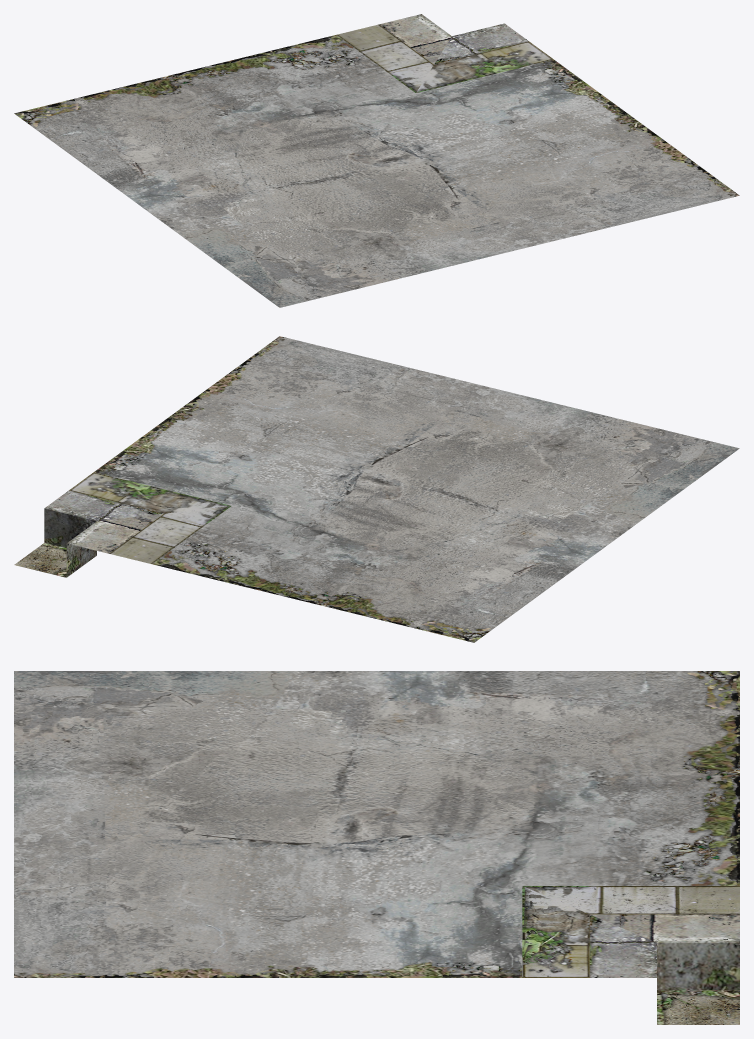
File: Sidewalk2_TurnB.FBX
3 renders of one model, top to bottom at view 1: azimuth 30°, elevation 25°; view 2: azimuth 150°, elevation 25°; view 3: azimuth 270°, elevation 25°, orthographic. The views are drawn at different scales.
Visible parts, largest first — view 1: Sidewalk2_TurnB; view 2: Sidewalk2_TurnB; view 3: Sidewalk2_TurnB.
Part boxes in pixels (x1,y1,x2,y2): Sidewalk2_TurnB: (14,14,739,307); Sidewalk2_TurnB: (14,336,739,642); Sidewalk2_TurnB: (14,671,739,1024).
Size of the model in its own units: 350 by 25 by 350.
2 materials, 2 textured.
